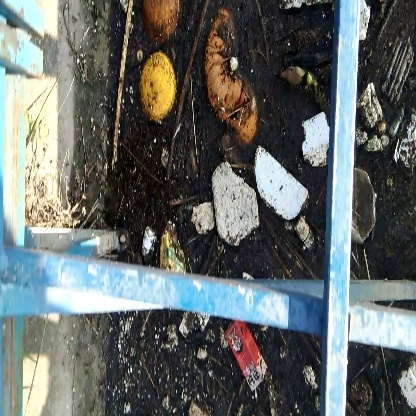ball: (134, 48, 184, 123)
milk-box: (226, 323, 278, 392)
